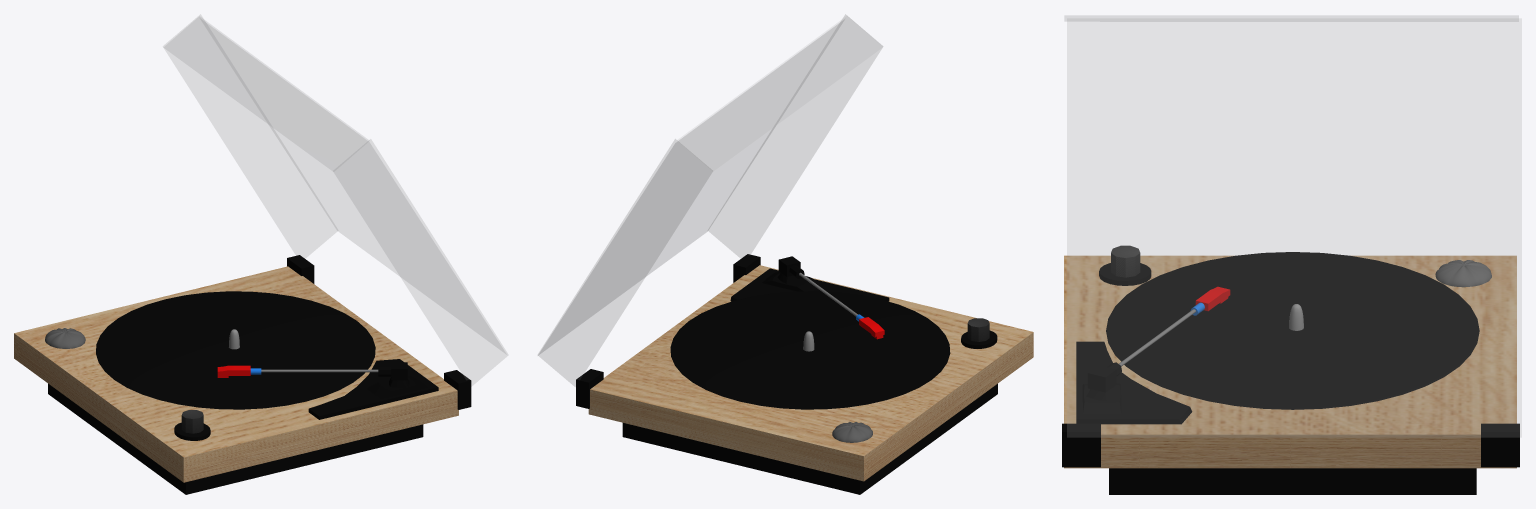
The model's file is music_3.fbx.
3 views of the same model, side by side, from view 1: azimuth 30°, elevation 25°; view 2: azimuth 150°, elevation 25°; view 3: azimuth 270°, elevation 25° (orthographic). The views are drawn at different scales.
Visible parts, largest first — view 1: polySurface72; view 2: polySurface72; view 3: polySurface72.
Boxes of the visible parts, box(x1,y1,x2,y2) form: polySurface72: box(14, 14, 507, 494); polySurface72: box(538, 14, 1033, 494); polySurface72: box(1062, 15, 1521, 494).
Bounding box in the file's own units: 29.4 × 28.2 × 26.95.
Materials: 15 (2 with a texture image).
